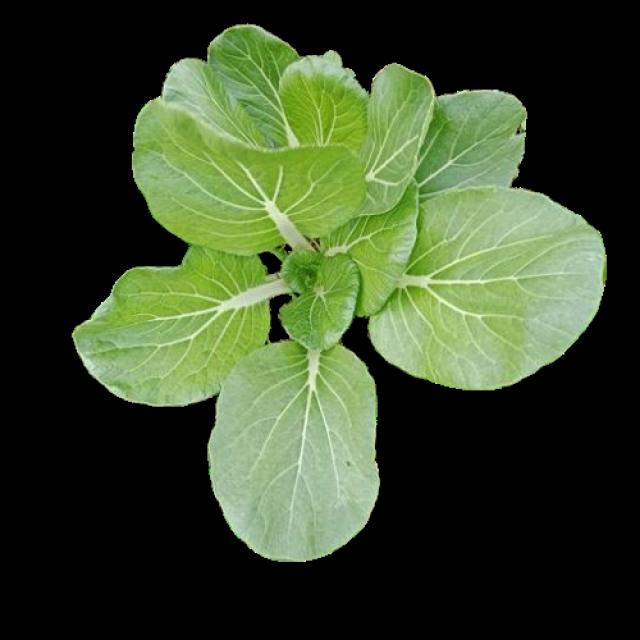healthy: (76, 22, 604, 553)
mature: (78, 24, 607, 556)
